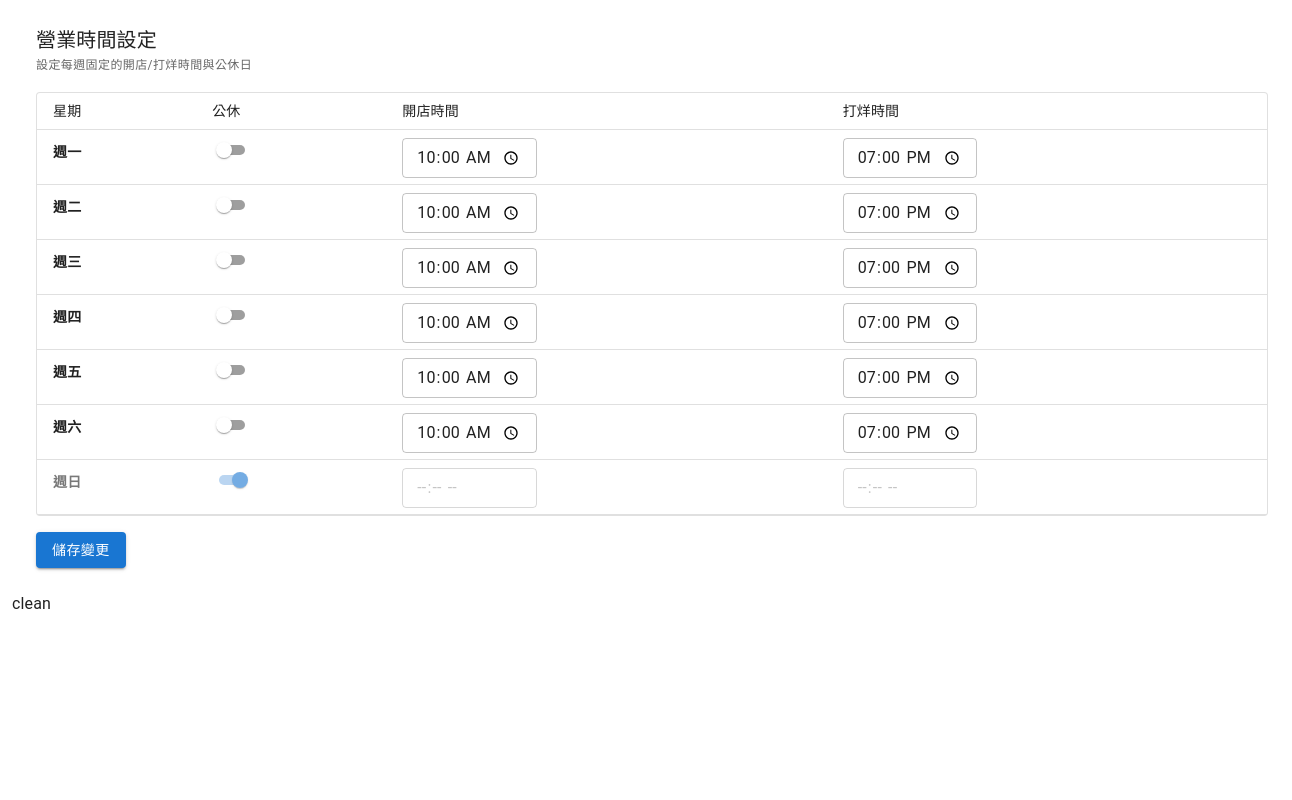
Scenario: BusinessHoursForm 未儲存變更回報（TASK-082，key: business-hours） › 切換公休：有變更；切回去：回到乾淨
The width and height of the screenshot is (1292, 800).
Click the switch named "公休" at (224, 150), box left=216, top=142, right=232, bottom=158
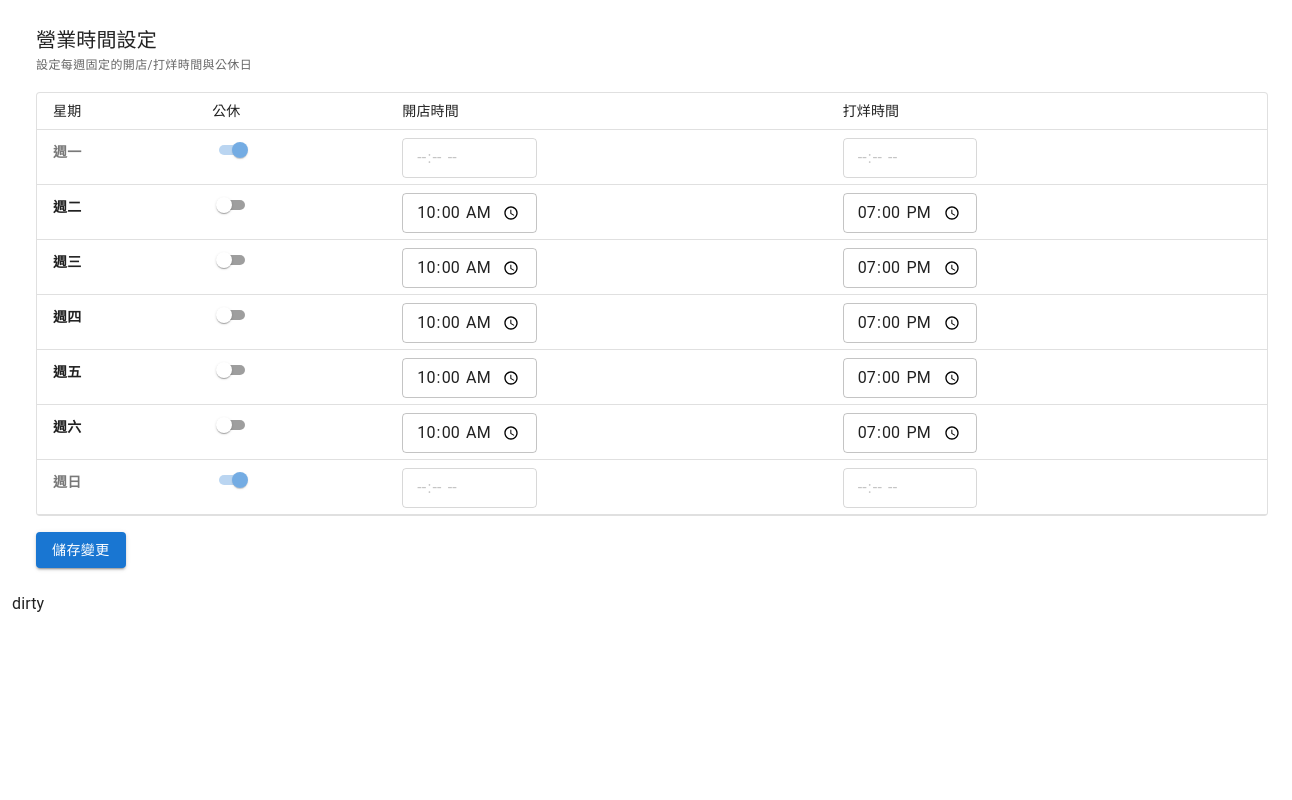
Now the text with test id "probe" reads "dirty", box left=12, top=594, right=44, bottom=613
Click the switch named "公休" at (240, 150), box left=232, top=142, right=248, bottom=158
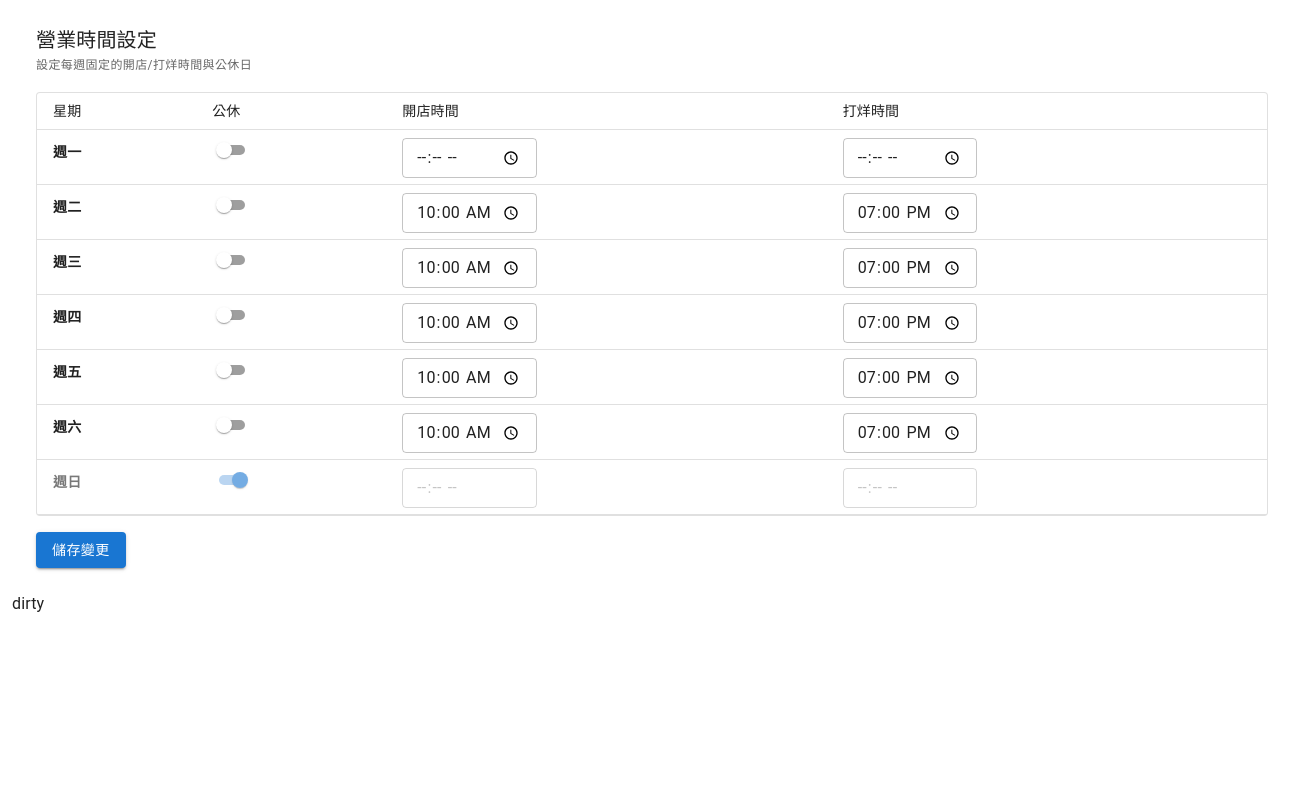
Now the text with test id "probe" reads "dirty", box left=12, top=594, right=44, bottom=613
Type "10:00" into the 1st time field named "開店時間" at (470, 158), box left=402, top=138, right=537, bottom=178
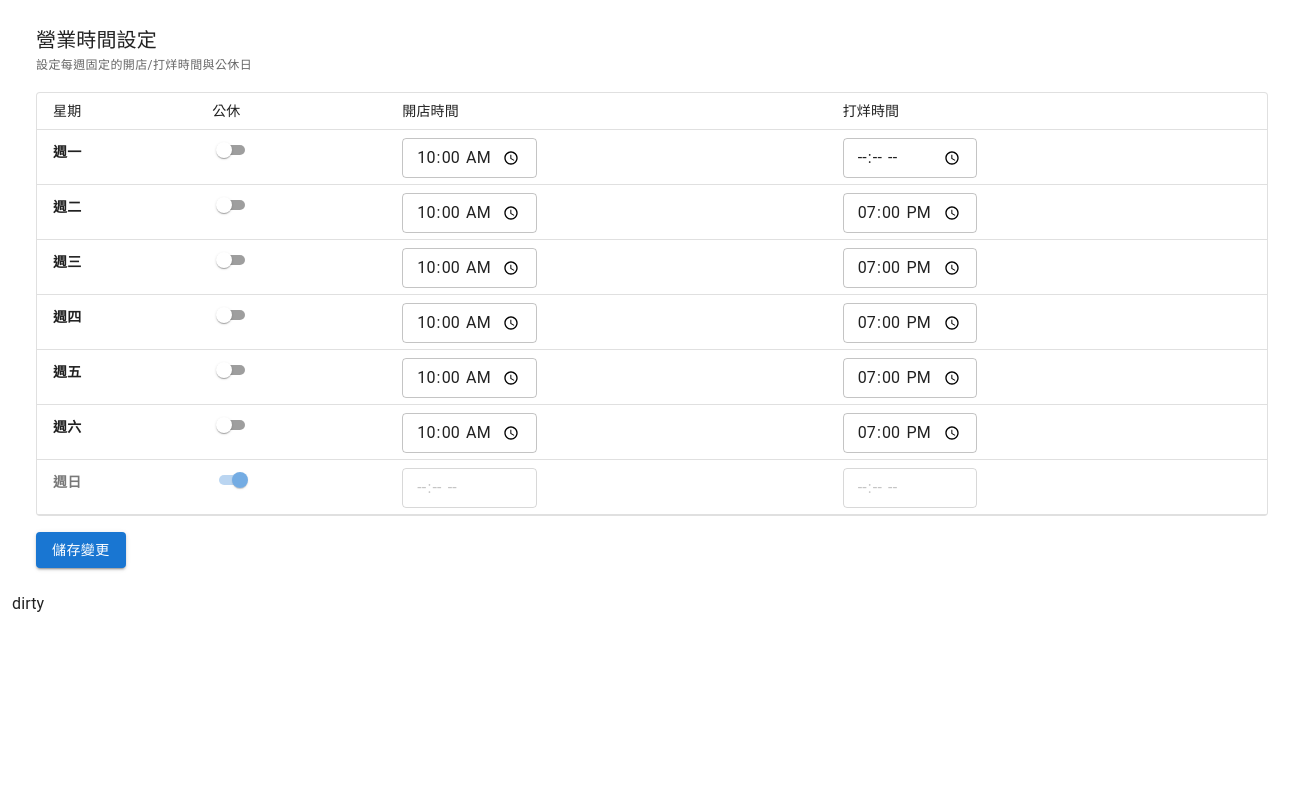
Type "19:00" into the 1st time field named "打烊時間" at (910, 158), box left=843, top=138, right=977, bottom=178
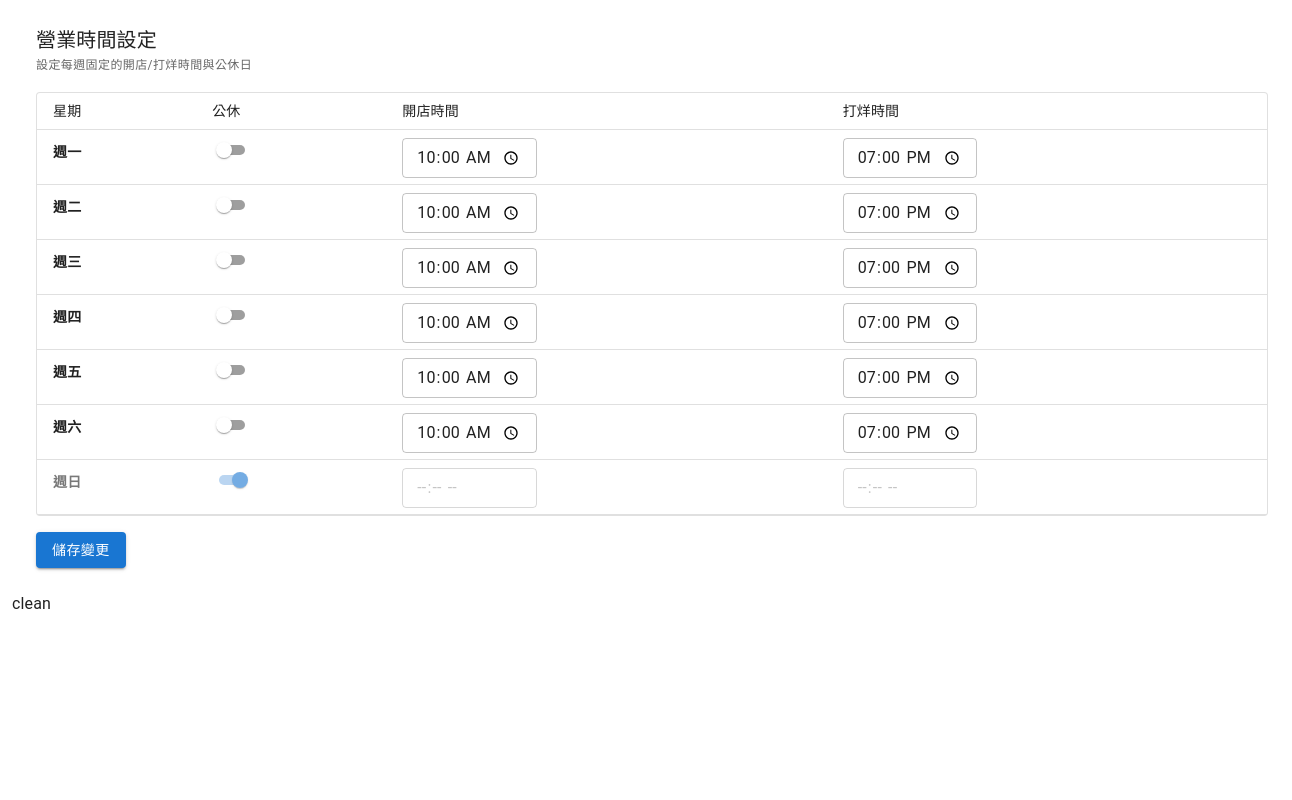
Now the text with test id "probe" reads "clean", box left=12, top=594, right=51, bottom=613
